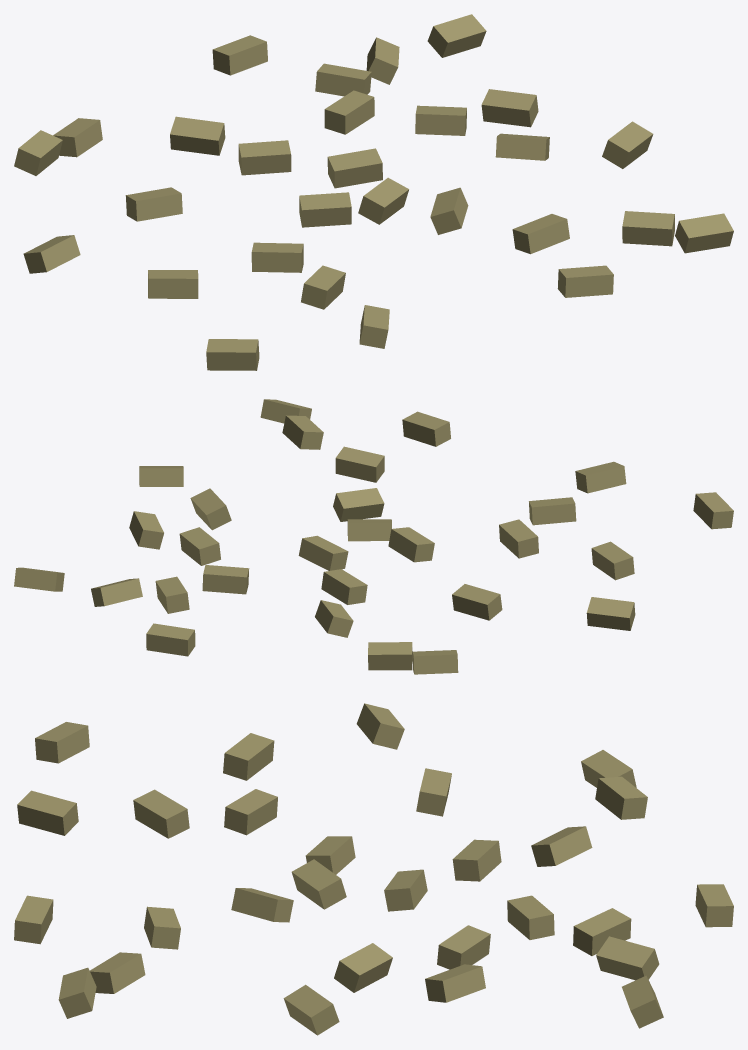
Rendered from SM_BrickScatterNew.fbx.
3 views of the same model, one above another, from view 1: azimuth 30°, elevation 25°; view 2: azimuth 150°, elevation 25°; view 3: azimuth 270°, elevation 25° (orthographic). The views are drawn at different scales.
Parts seen in each view (by area): view 1: Bricksscatternew; view 2: Bricksscatternew; view 3: Bricksscatternew.
Boxes of the visible parts, x1,y1,x2,y2 form: Bricksscatternew: [14, 14, 733, 370]; Bricksscatternew: [14, 399, 733, 674]; Bricksscatternew: [14, 703, 733, 1035].
Bounding box in the file's own units: 143 × 6.56 × 141.
